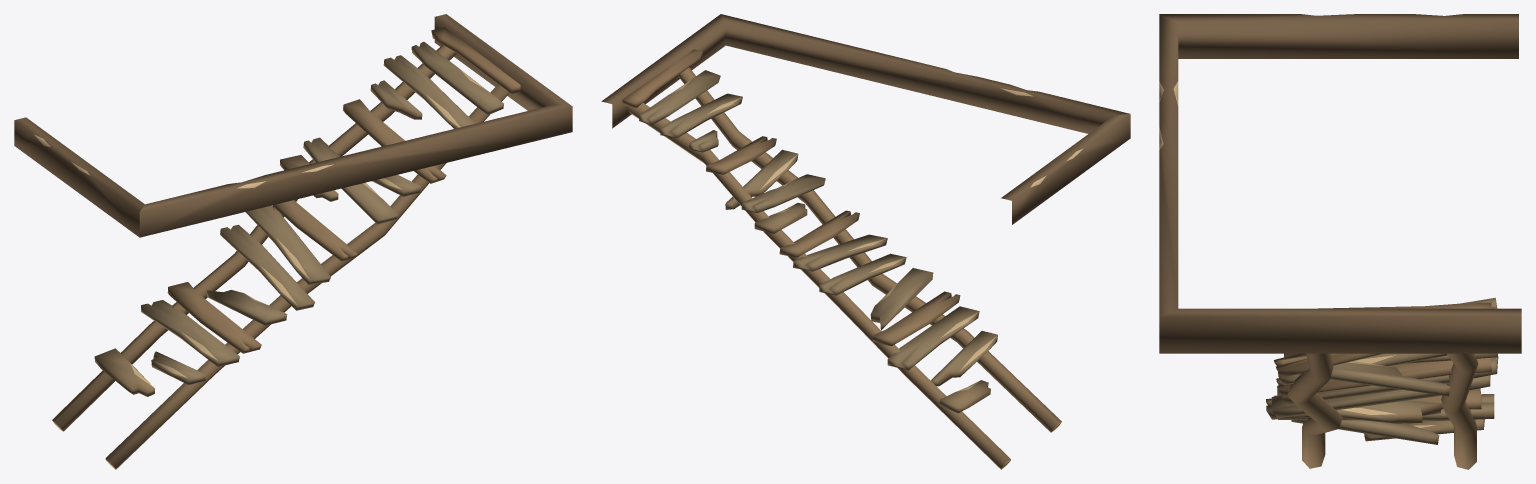
File: rpgpp_av_stairs_interior_01a_4m.gltf
3 views of the same model, side by side, from view 1: azimuth 30°, elevation 25°; view 2: azimuth 150°, elevation 25°; view 3: azimuth 270°, elevation 25° (orthographic). The views are drawn at different scales.
Parts seen in each view (by area): view 1: rpgpp_av_stairs_interior_01a_4m; view 2: rpgpp_av_stairs_interior_01a_4m; view 3: rpgpp_av_stairs_interior_01a_4m.
Part boxes in pixels (x1,y1,x2,y2): rpgpp_av_stairs_interior_01a_4m: [14, 14, 572, 469]; rpgpp_av_stairs_interior_01a_4m: [601, 14, 1130, 469]; rpgpp_av_stairs_interior_01a_4m: [1159, 14, 1521, 469].
Bounding box in the file's own units: 0.0622 × 0.0417 × 0.0314.
1 material, 1 textured.
